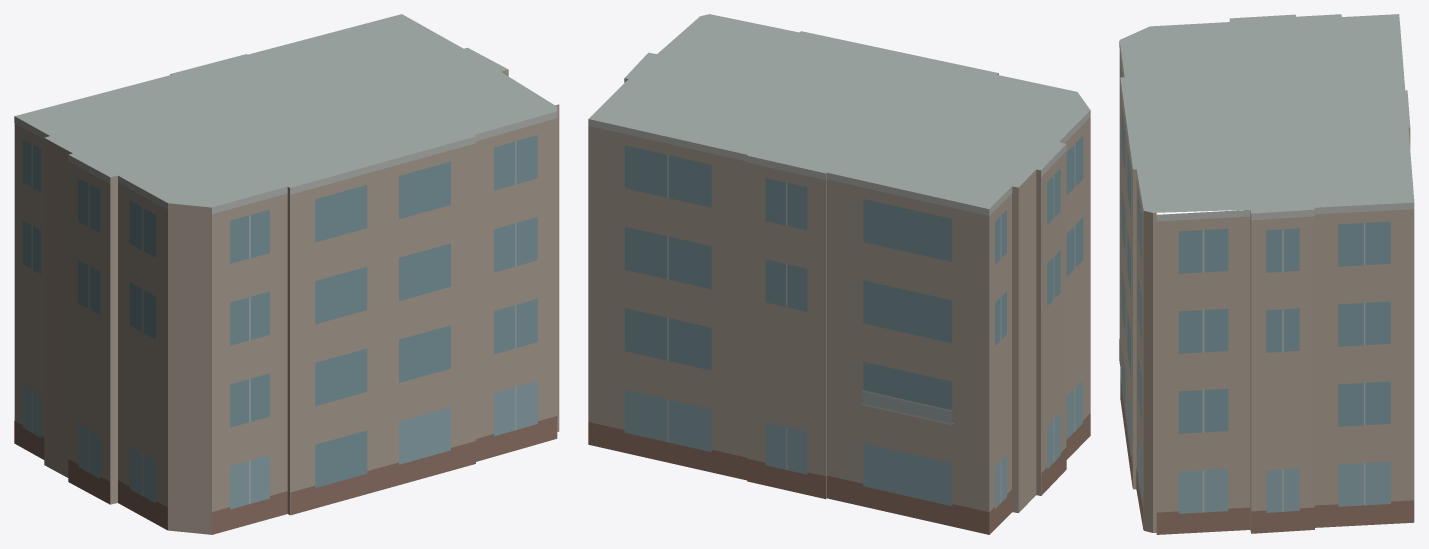
The model's file is survey-upis-32667253.glb.
The picture shows the model from 3 angles, left to right: view 1: azimuth 30°, elevation 25°; view 2: azimuth 150°, elevation 25°; view 3: azimuth 270°, elevation 25°; orthographic projection. The views are drawn at different scales.
Visible parts, largest first — view 1: survey-upis-32667253.tmp; view 2: survey-upis-32667253.tmp; view 3: survey-upis-32667253.tmp.
Boxes of the visible parts, left/top/right/bottom form: survey-upis-32667253.tmp: left=14, top=14, right=559, bottom=534; survey-upis-32667253.tmp: left=588, top=14, right=1090, bottom=534; survey-upis-32667253.tmp: left=1119, top=14, right=1414, bottom=534.
Bounding box in the file's own units: 15.75 × 11.7 × 9.78.
